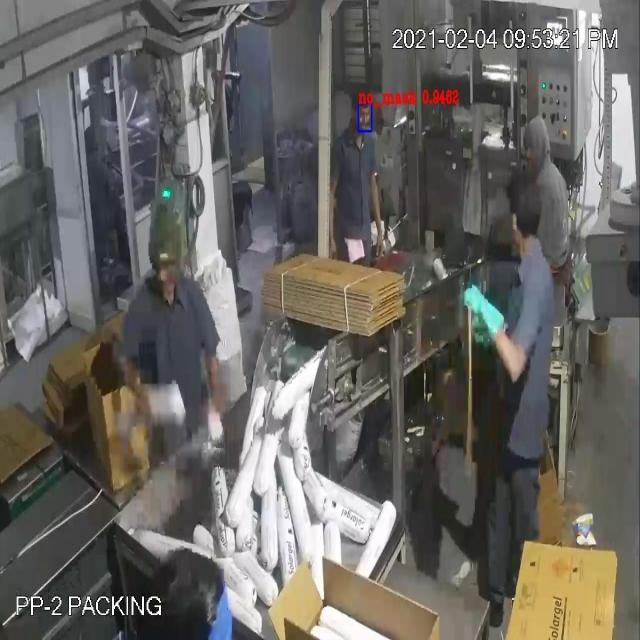No_Gloves: (24, 91, 484, 388)
